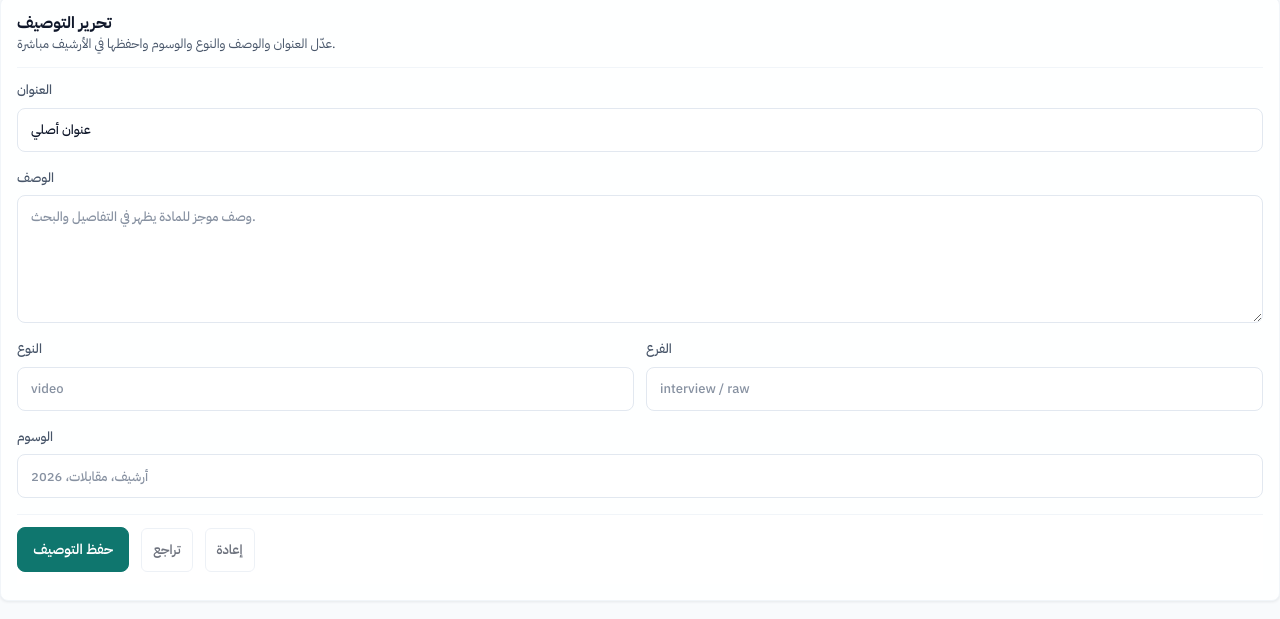
Test: RecordDescribeForm undo/redo (V1-732C) › blurring a changed field creates a checkpoint that undo reverts
Replace the text in the field labelled "العنوان" with "عنوان جديد" at (640,130), box [17,108,1263,152]
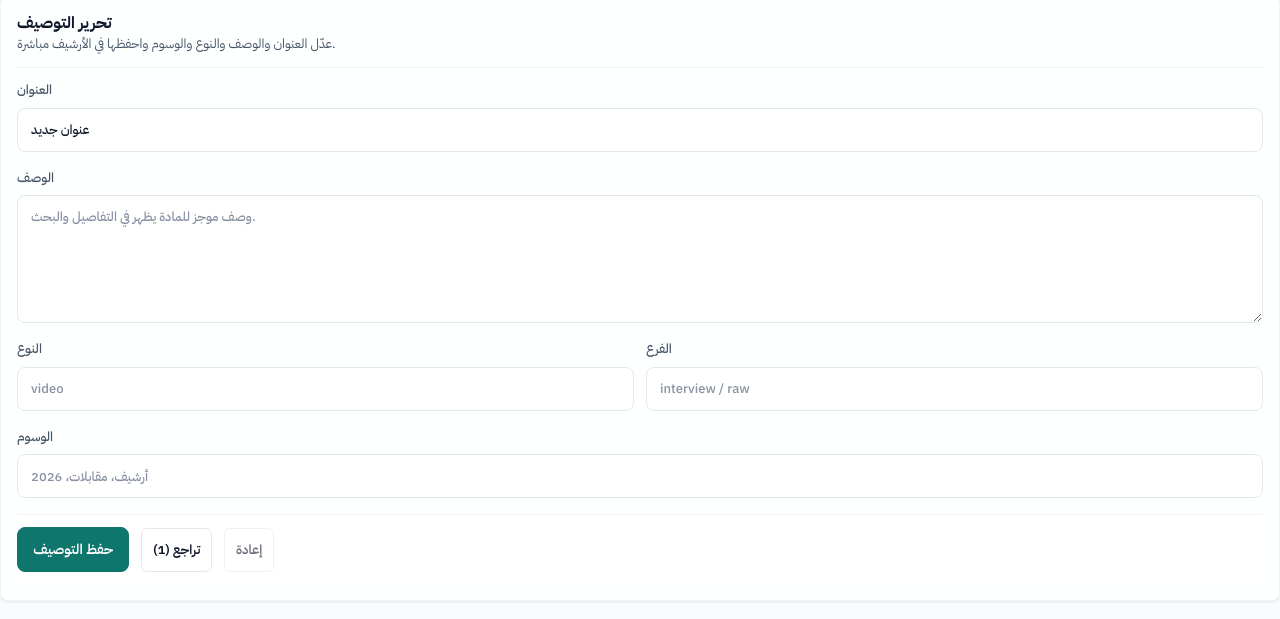
Click the button "تراجع (1)" at (177,550), box [141,528,212,572]
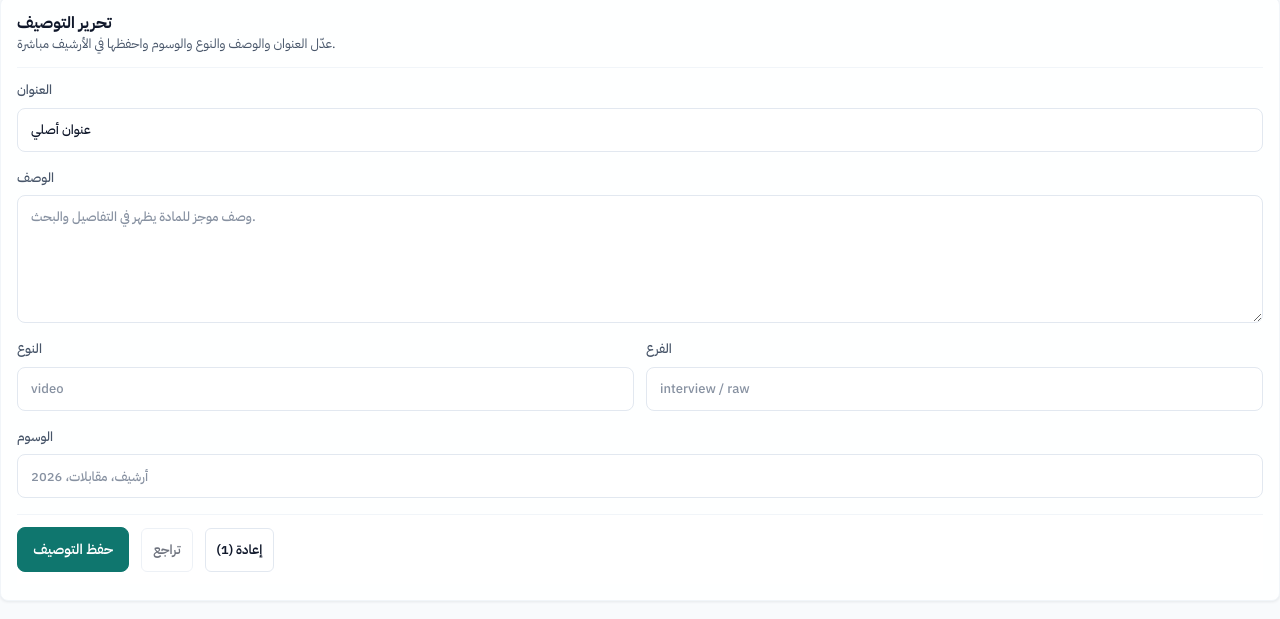
Result: the field labelled "العنوان" holds "عنوان أصلي" at [17,108,1263,152]
